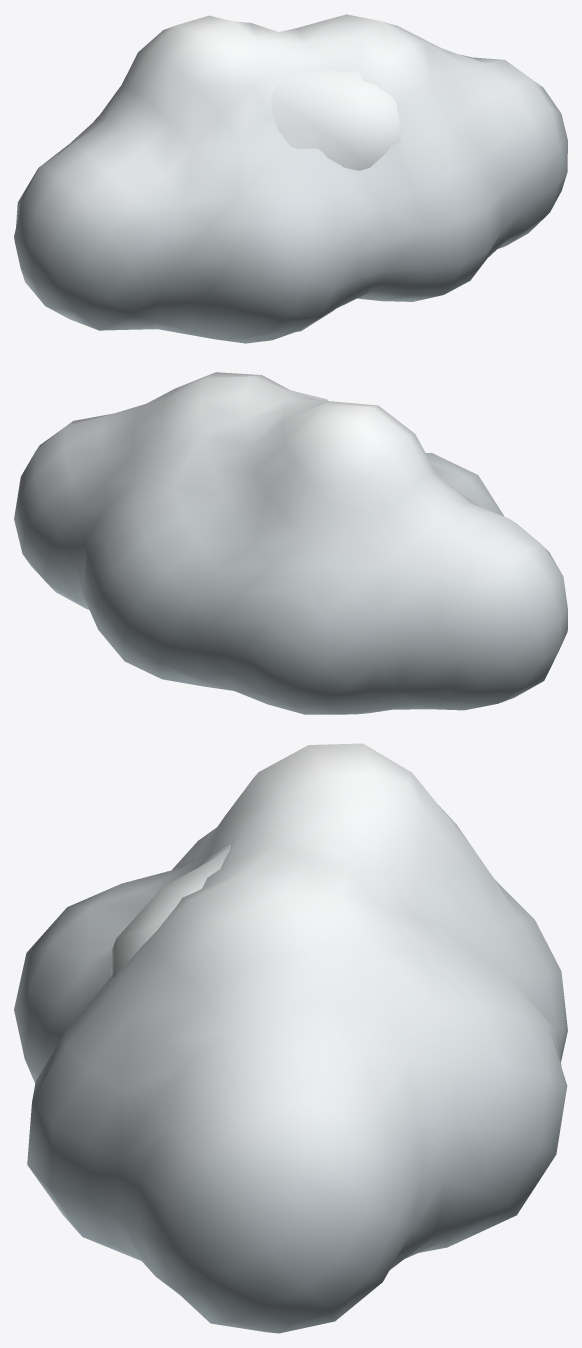
The model's file is hex_props.glb.
3 views of the same model, one above another, from view 1: azimuth 30°, elevation 25°; view 2: azimuth 150°, elevation 25°; view 3: azimuth 270°, elevation 25° (orthographic). The views are drawn at different scales.
Parts seen in each view (by area): view 1: cloud_big, cloud_small; view 2: cloud_big; view 3: cloud_big, cloud_small.
Part boxes in pixels (x1=…): cloud_big: x1=14, y1=14, x2=567, y2=343; cloud_small: x1=271, y1=70, x2=400, y2=331; cloud_big: x1=14, y1=372, x2=567, y2=714; cloud_big: x1=14, y1=743, x2=567, y2=1333; cloud_small: x1=111, y1=844, x2=231, y2=977.
Bounding box in the file's own units: 43.29 × 23.64 × 26.91.
1 material, 1 textured.
